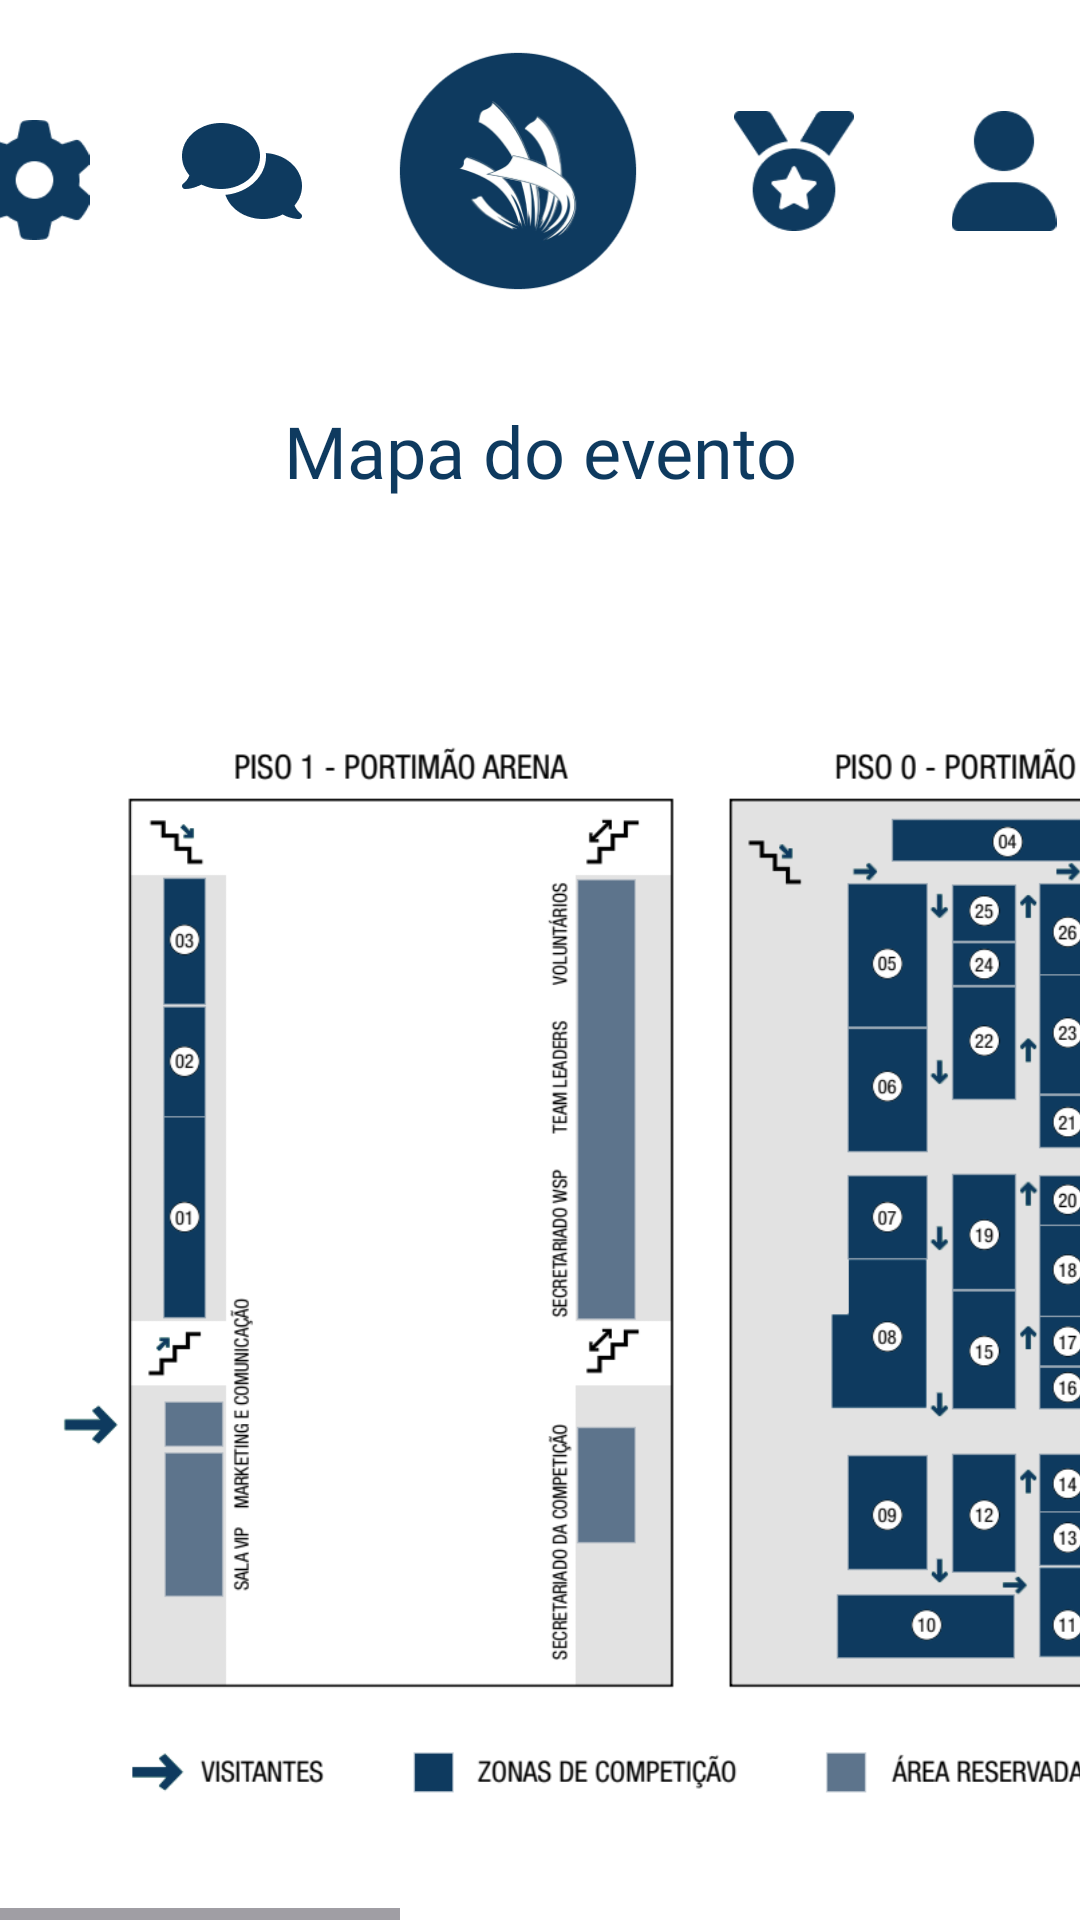

Locate icon controls on the screen. Image size 1080px×1920px, boxes as {"left": x1, "top": y1, "right": x2, "bottom": y2}.
badges: {"left": 734, "top": 111, "right": 854, "bottom": 231}
chat: {"left": 182, "top": 123, "right": 302, "bottom": 219}
user: {"left": 952, "top": 111, "right": 1057, "bottom": 231}
